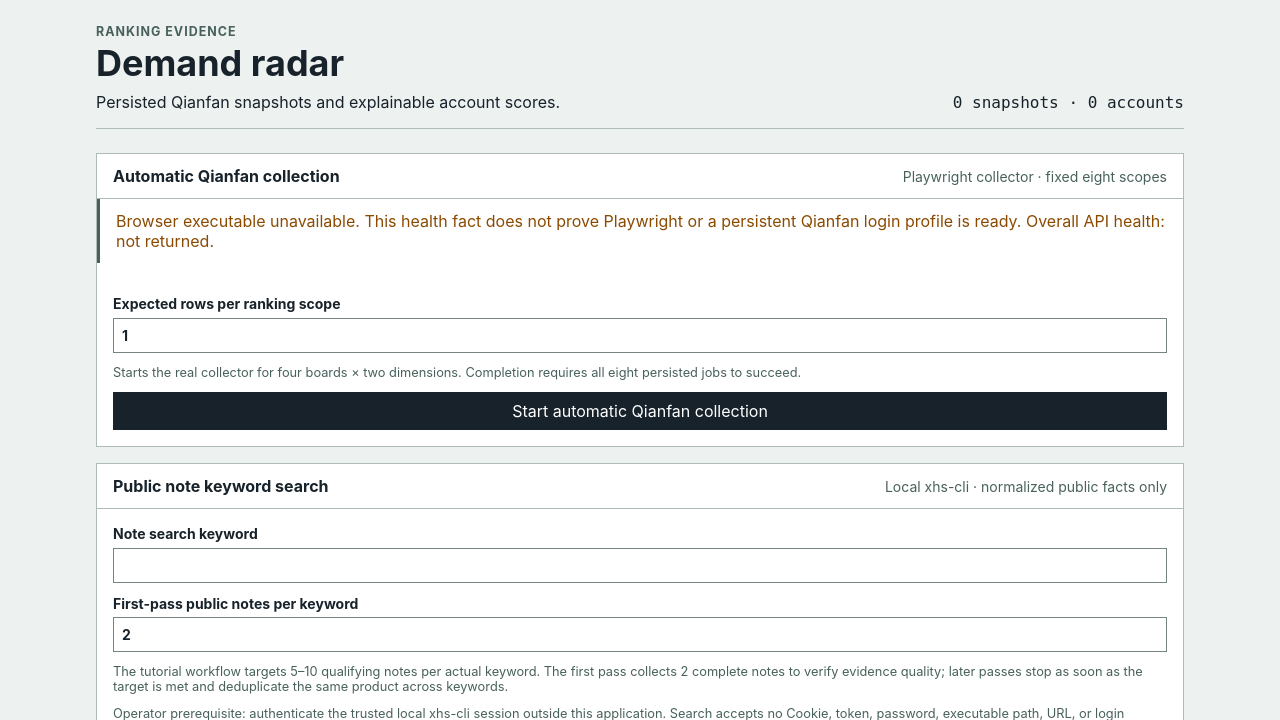
Test: RadarPage › surfaces a scheduled job refresh failure without an unhandled rejection
Click the button "Start automatic Qianfan collection": coordinates (640, 411) [113, 392, 1167, 430]
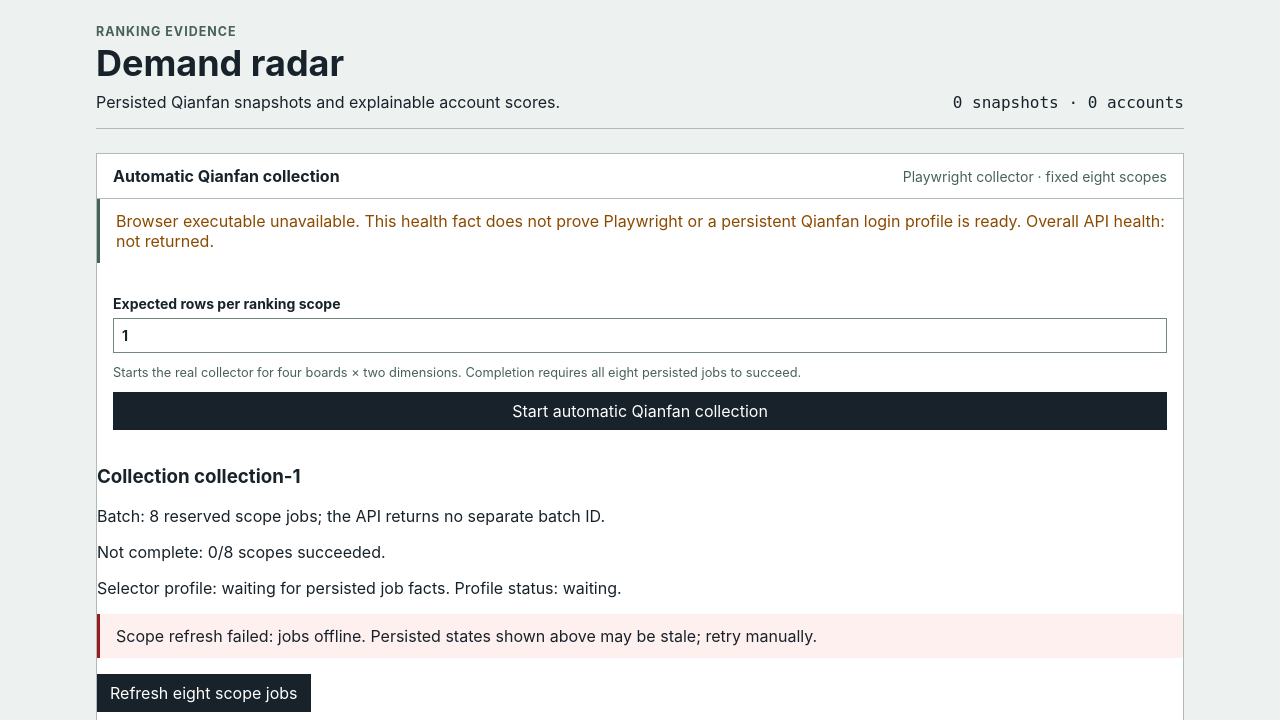
Check: the message that starts with "Scope refresh failed:" shows "jobs offline", box [278, 626, 361, 646]
Check: the button "Refresh eight scope jobs" is enabled, box [97, 674, 310, 712]
